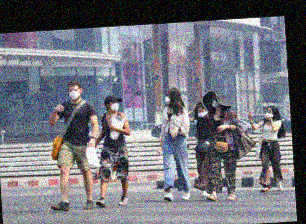with_mask: (69, 87, 81, 100), (211, 95, 222, 108), (109, 99, 120, 111), (197, 109, 208, 117), (266, 108, 274, 119), (164, 92, 171, 104)
